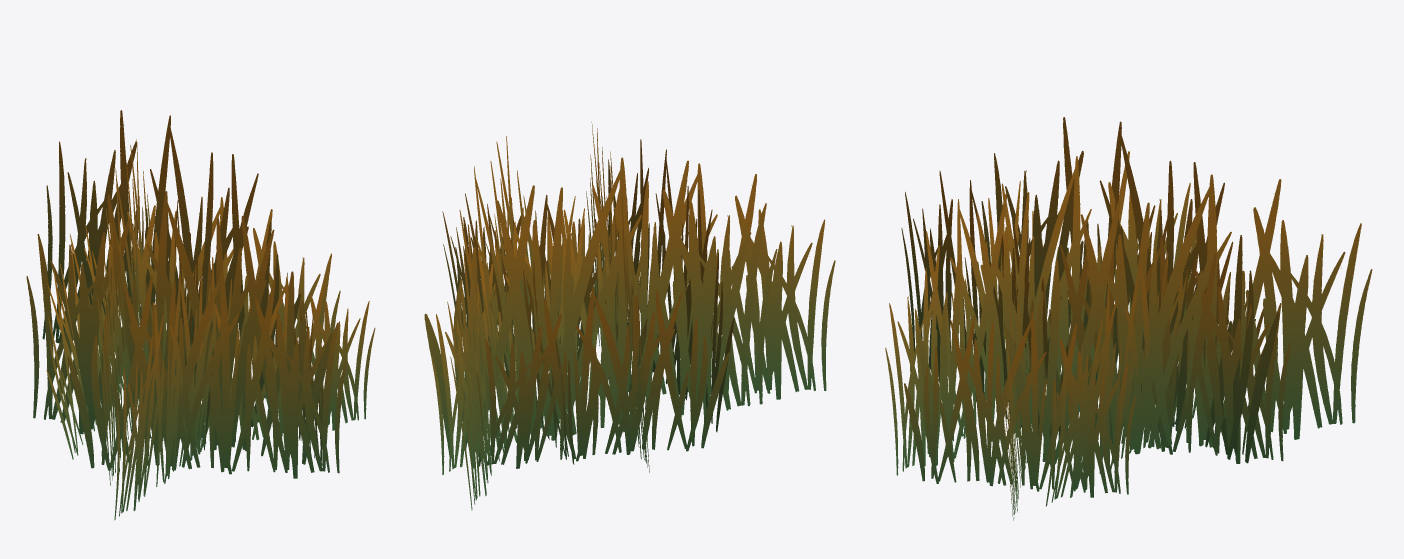
Rendered from low_grass_02.gltf.
The picture shows the model from 3 angles, left to right: view 1: azimuth 30°, elevation 25°; view 2: azimuth 150°, elevation 25°; view 3: azimuth 270°, elevation 25°; orthographic projection. The views are drawn at different scales.
Visible parts, largest first — view 1: default; view 2: default; view 3: default.
Boxes of the visible parts, left/top/right/bottom form: default: left=26, top=110, right=375, bottom=520; default: left=424, top=122, right=835, bottom=510; default: left=885, top=117, right=1372, bottom=520.
Bounding box in the file's own units: 0.8227 × 0.8109 × 1.04.
1 material, 1 textured.
